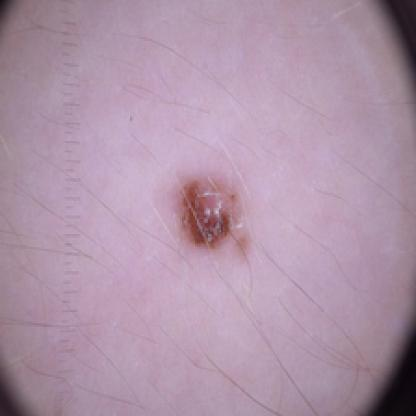benign: (173, 169, 247, 262)
